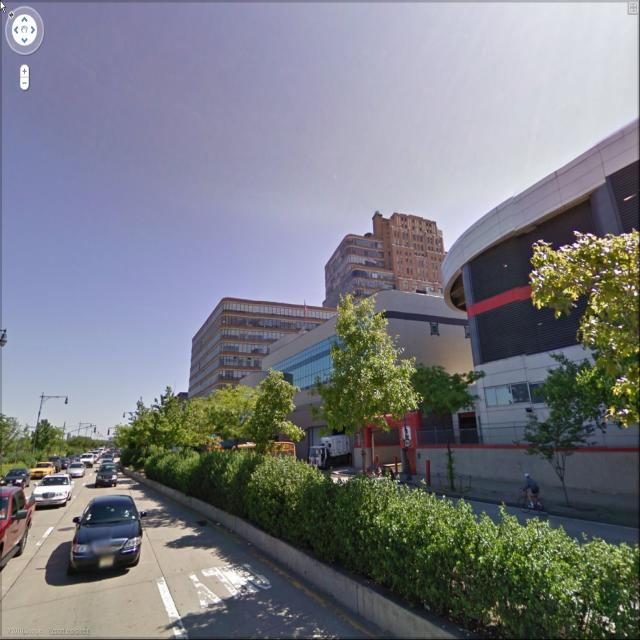b_1: (178, 287, 351, 392), (314, 200, 462, 310)
b_2: (463, 101, 640, 450), (227, 307, 478, 485)
